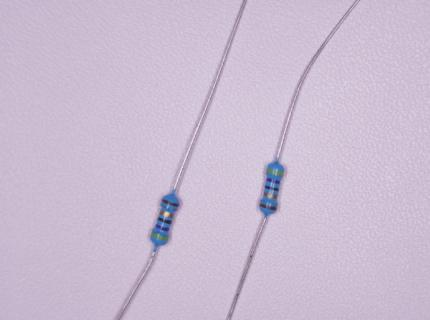Black band: (158, 217, 172, 225), (264, 186, 279, 191)
Brown band: (162, 199, 179, 207), (259, 204, 277, 211)
Gold band: (159, 211, 174, 218), (263, 192, 278, 199)
Violet band: (155, 224, 169, 232), (266, 178, 281, 185)
Yellow band: (266, 169, 284, 176), (151, 234, 169, 240)
